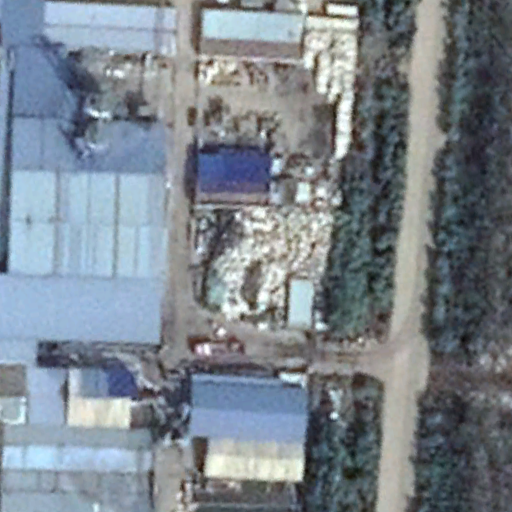msw: (203, 205, 328, 318)
